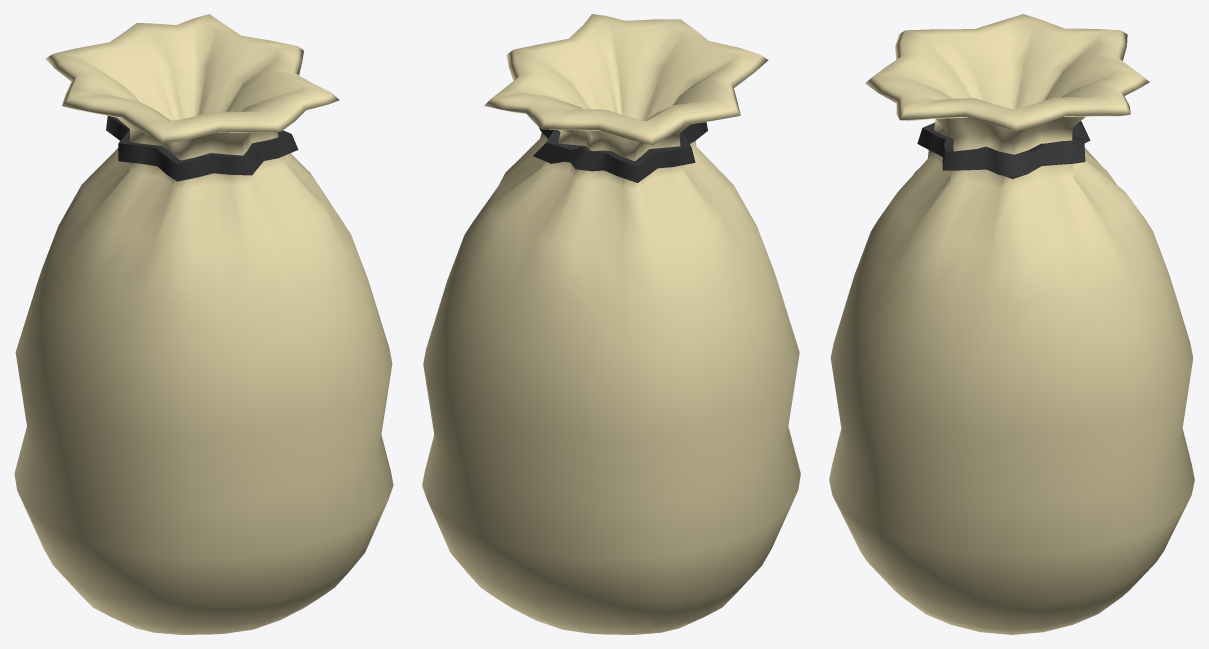
Rendered from MoneyBag.fbx.
3 renders of one model, left to right at view 1: azimuth 30°, elevation 25°; view 2: azimuth 150°, elevation 25°; view 3: azimuth 270°, elevation 25°, orthographic.
Parts seen in each view (by area): view 1: MoneyBag; view 2: MoneyBag; view 3: MoneyBag.
Part boxes in pixels (x1,y1,x2,y2): MoneyBag: (14, 14, 393, 634); MoneyBag: (422, 14, 800, 634); MoneyBag: (829, 14, 1194, 634).
Bounding box in the file's own units: 0.8001 × 1.3 × 0.8001.
